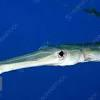Fistularia commersonii: (0, 35, 100, 72)
